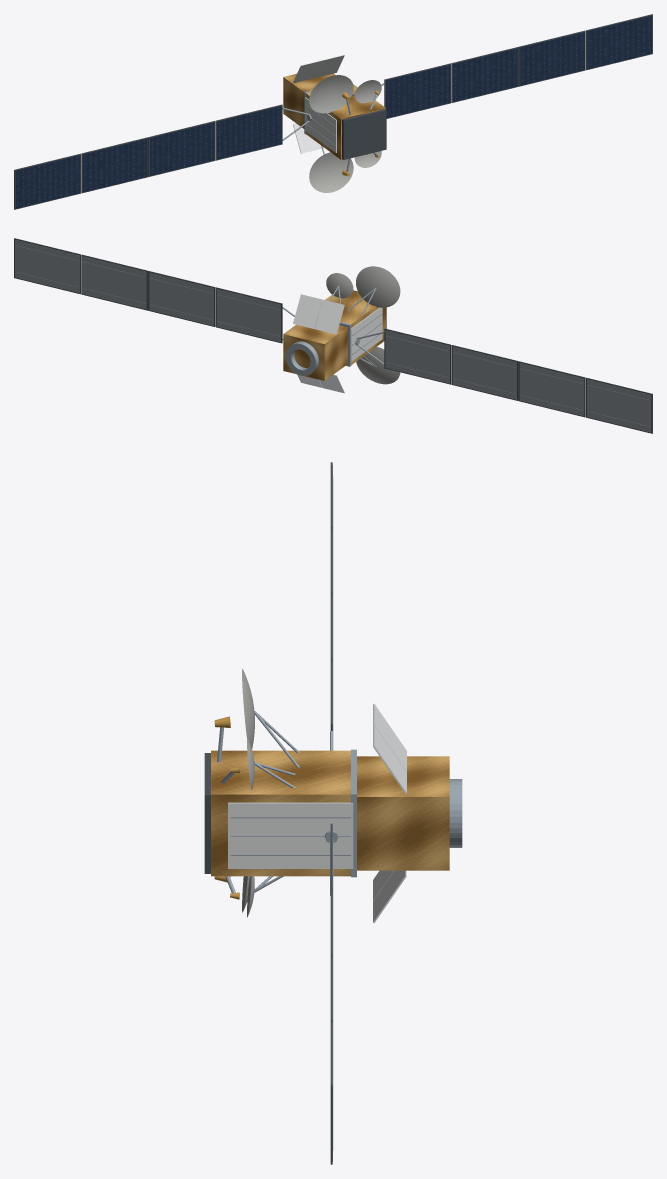
Rendered from ref-eurostar-3000m-36581.glb.
3 renders of one model, top to bottom at view 1: azimuth 30°, elevation 25°; view 2: azimuth 150°, elevation 25°; view 3: azimuth 270°, elevation 25°, orthographic. The views are drawn at different scales.
Parts seen in each view (by area): view 1: Solar cell panel (×8), Communications reflector (×4), Solar panel frame (×8), Earth-facing deck, Deployed radiator leaf (×3), Service module, Payload module, Radiator face; view 2: Rear array substrate (×8), Solar panel frame (×8), Communications reflector (×3), Service module, Deployed radiator leaf (×2), Payload module, Radiator face, Launch adapter ring; view 3: Service module, Payload module, Radiator face.
Boxes of the visible parts, bbox=[...] form: Solar cell panel (×8): bbox=[15, 15, 651, 208]; Communications reflector (×4): bbox=[309, 75, 381, 192]; Solar panel frame (×8): bbox=[14, 14, 652, 209]; Earth-facing deck: bbox=[342, 109, 386, 159]; Deployed radiator leaf (×3): bbox=[293, 54, 344, 153]; Service module: bbox=[283, 73, 335, 128]; Payload module: bbox=[306, 84, 385, 159]; Radiator face: bbox=[304, 97, 336, 152]; Rear array substrate (×8): bbox=[15, 239, 651, 432]; Solar panel frame (×8): bbox=[14, 238, 652, 433]; Communications reflector (×3): bbox=[326, 266, 400, 384]; Service module: bbox=[283, 320, 347, 380]; Deployed radiator leaf (×2): bbox=[293, 294, 344, 334]; Payload module: bbox=[320, 291, 385, 364]; Radiator face: bbox=[351, 307, 382, 361]; Launch adapter ring: bbox=[285, 341, 318, 375]; Service module: bbox=[357, 756, 449, 870]; Payload module: bbox=[211, 750, 350, 876]; Radiator face: bbox=[228, 802, 353, 868].
Bounding box in the file's own units: 39.76 × 6.93 × 6.94.
8 materials, 2 textured.
